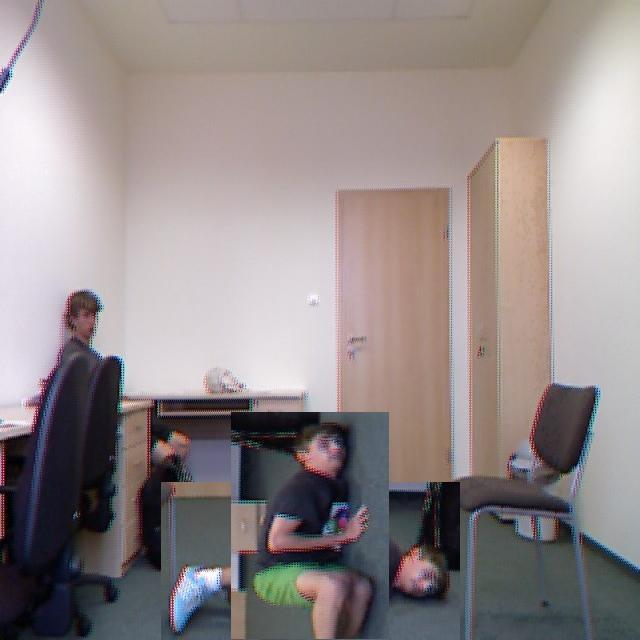Fall: (166, 376, 396, 634)
